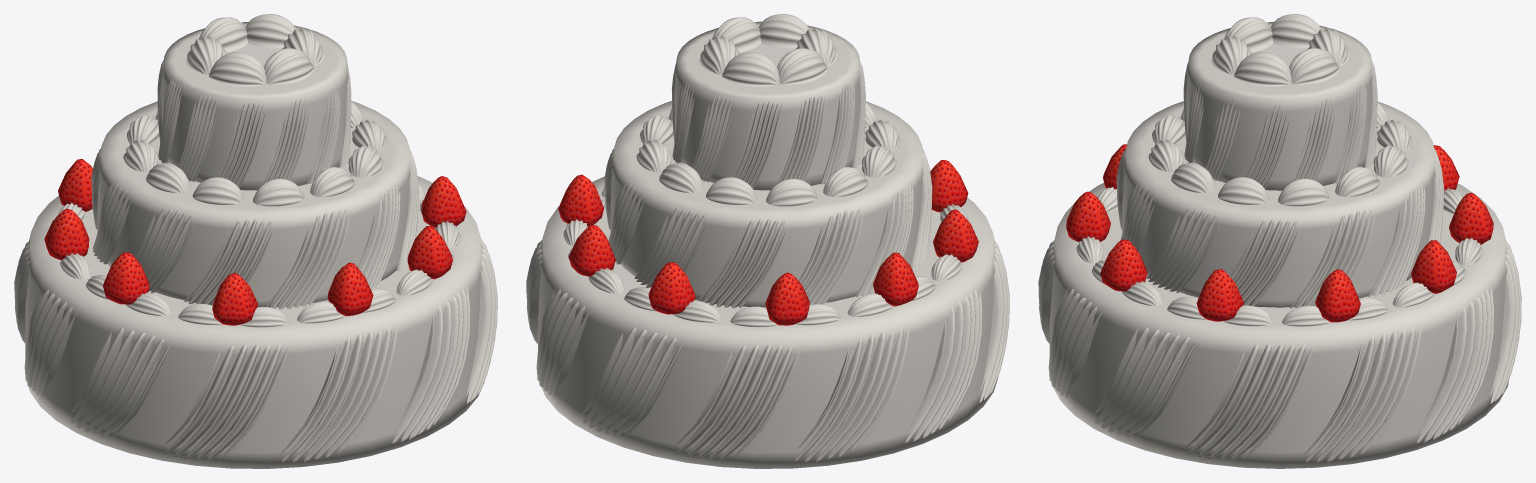
3 views of the same model, side by side, from view 1: azimuth 30°, elevation 25°; view 2: azimuth 150°, elevation 25°; view 3: azimuth 270°, elevation 25° (orthographic).
Visible parts, largest first — view 1: pSphere11; view 2: pSphere11; view 3: pSphere11.
Part boxes in pixels (box(x1,y1,x2,y2)): pSphere11: box(14, 14, 497, 468); pSphere11: box(526, 14, 1009, 468); pSphere11: box(1038, 14, 1521, 468).
Size of the model in its own units: 32.56 by 25.1 by 32.56.
